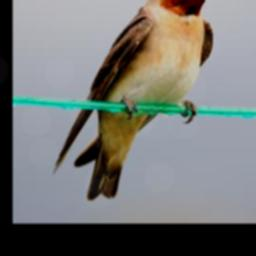Swallow: (52, 0, 221, 201)
